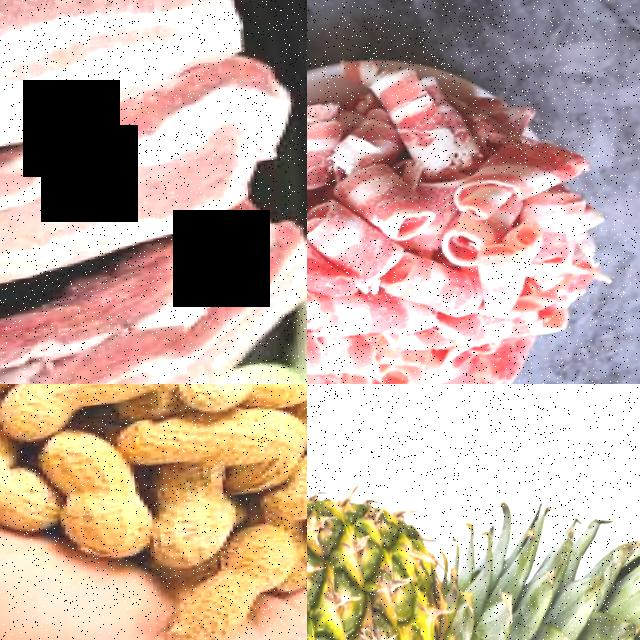peanuts: (118, 411, 299, 483), (43, 457, 141, 569), (138, 477, 235, 578), (148, 566, 264, 640), (8, 384, 167, 419), (161, 384, 245, 421), (0, 438, 30, 528)
pineapple: (307, 479, 533, 640)
pork belly: (76, 80, 297, 268), (0, 0, 240, 159), (92, 225, 307, 370), (363, 67, 473, 196), (0, 151, 79, 323), (307, 283, 430, 384), (456, 229, 542, 325), (307, 157, 353, 308)
